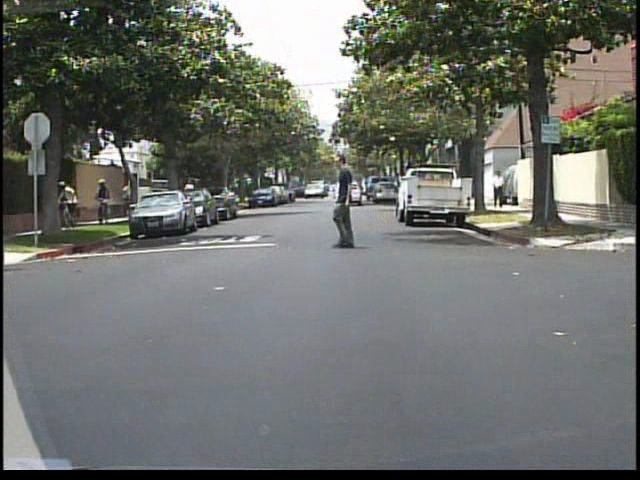person: (318, 151, 372, 253), (57, 176, 81, 226), (489, 168, 509, 211), (181, 175, 198, 211), (93, 176, 114, 202)
